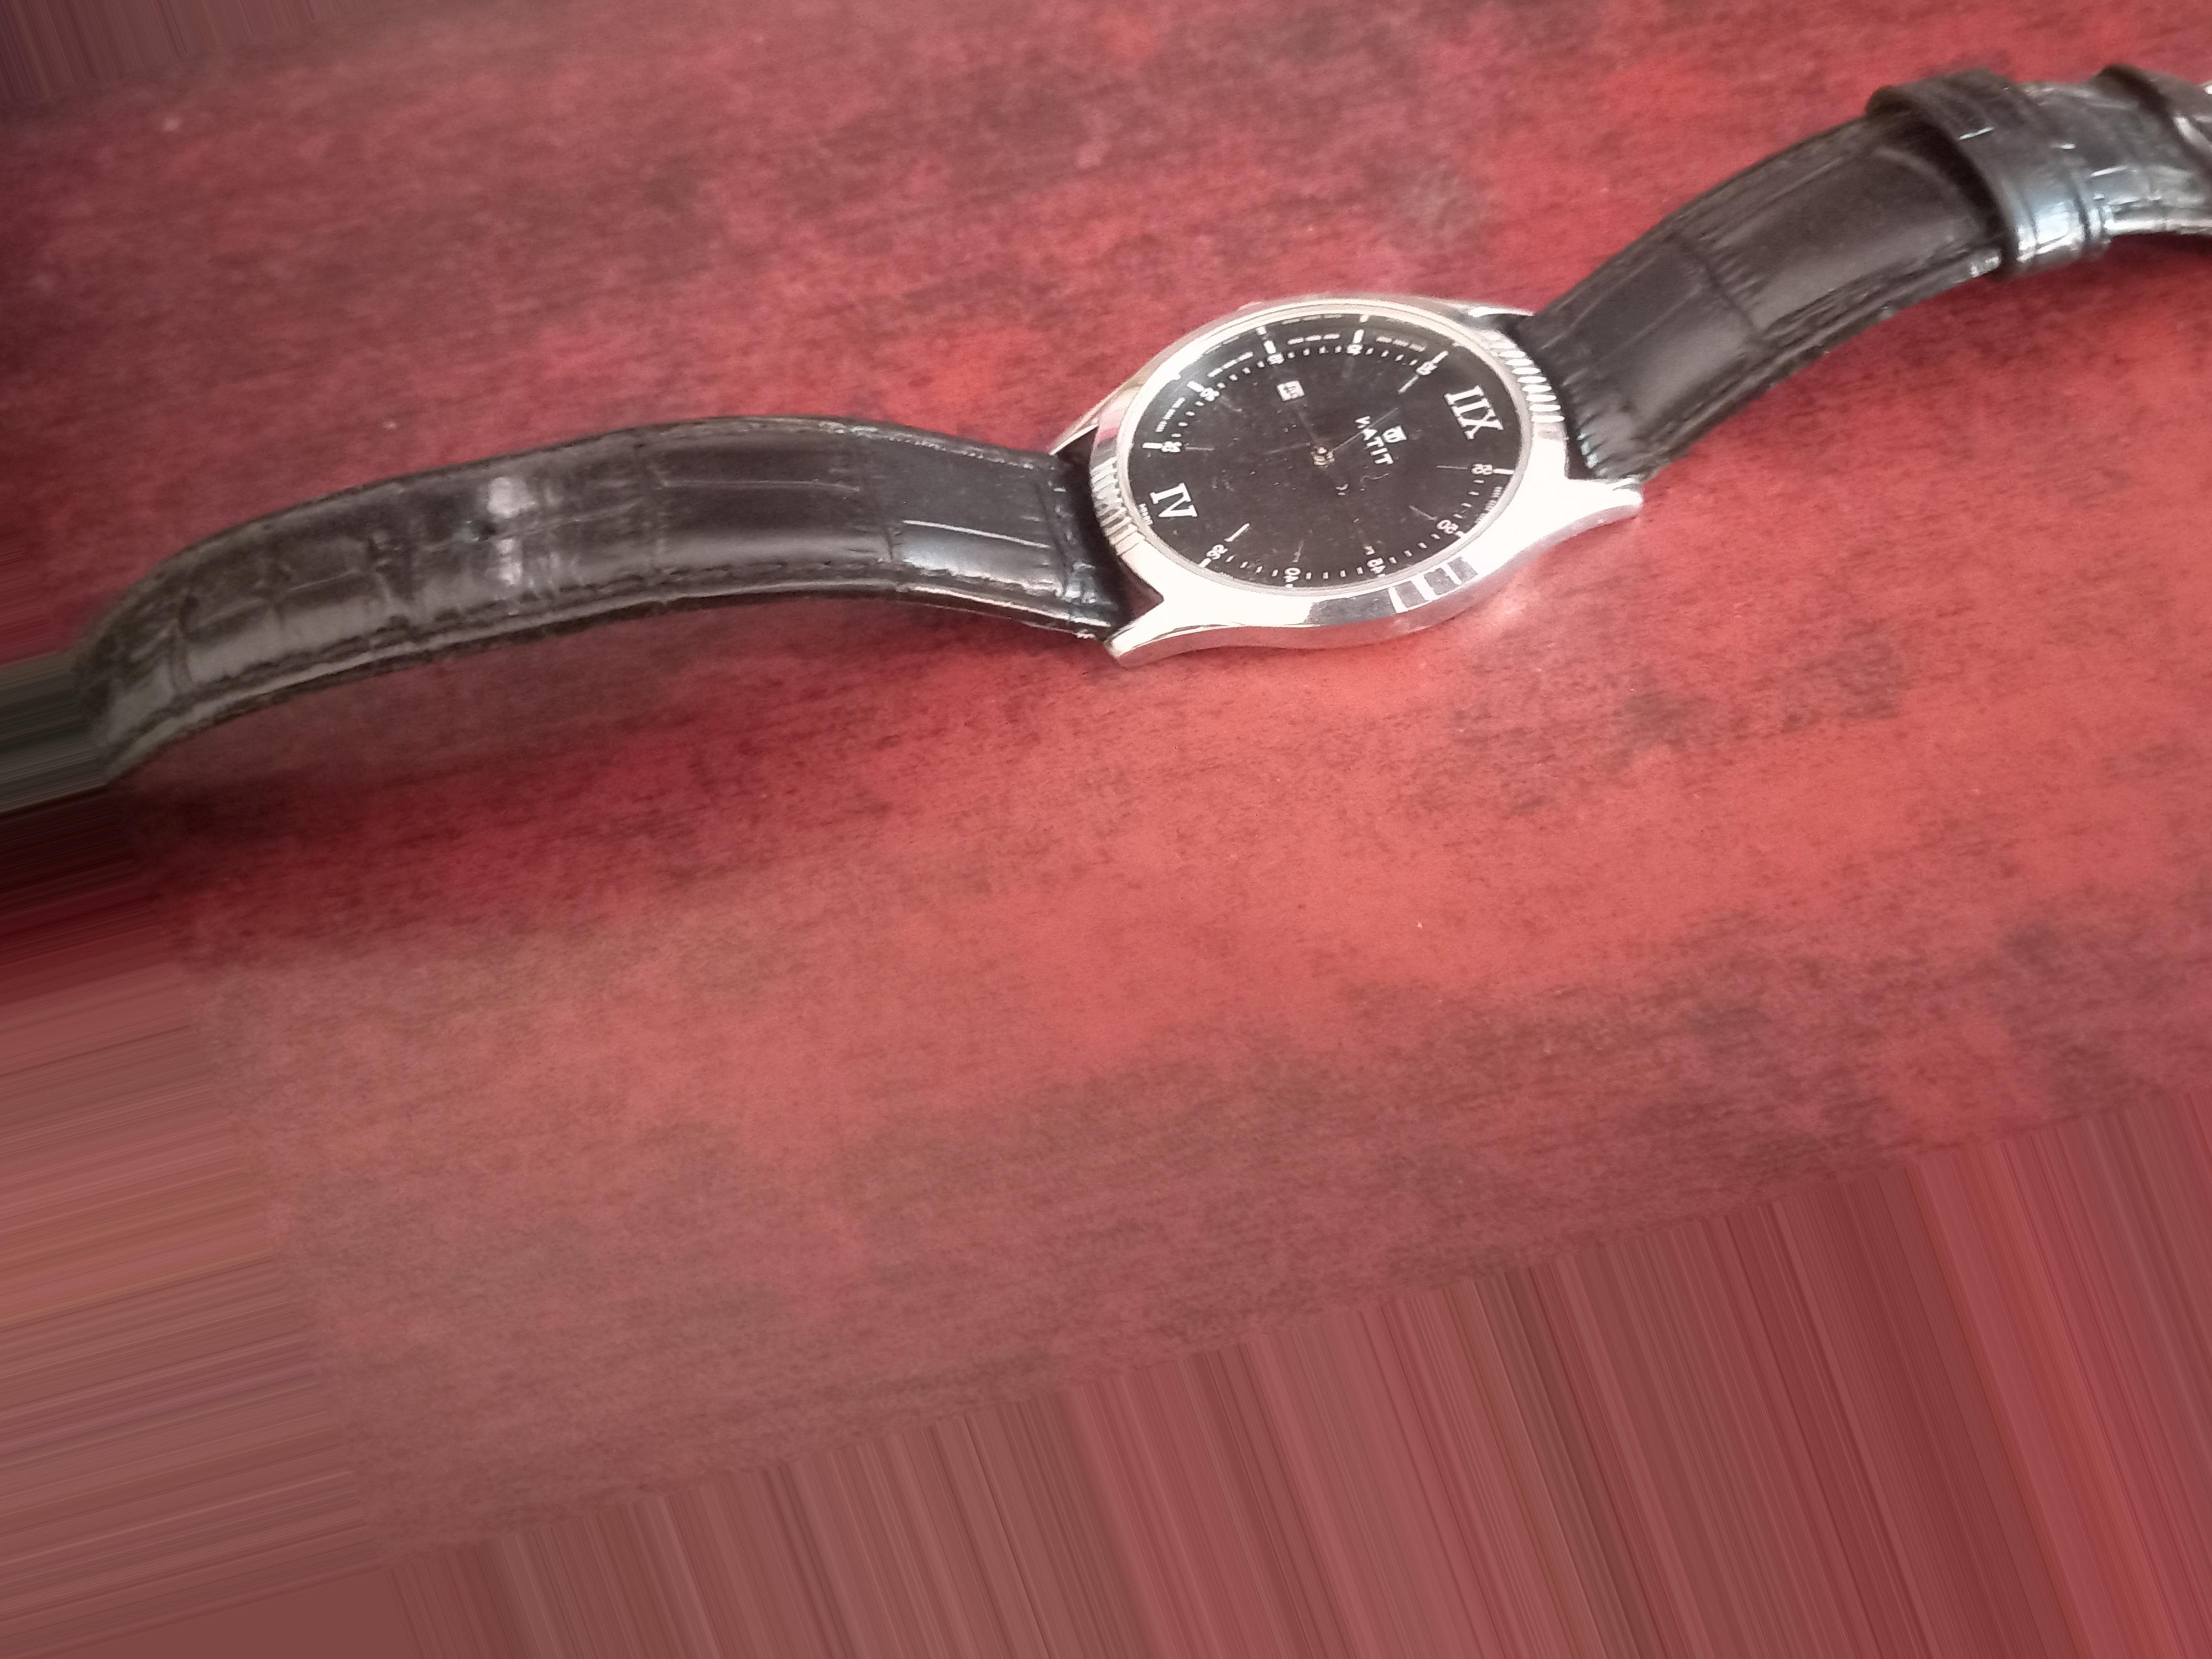watch: (0, 68, 2212, 735)
